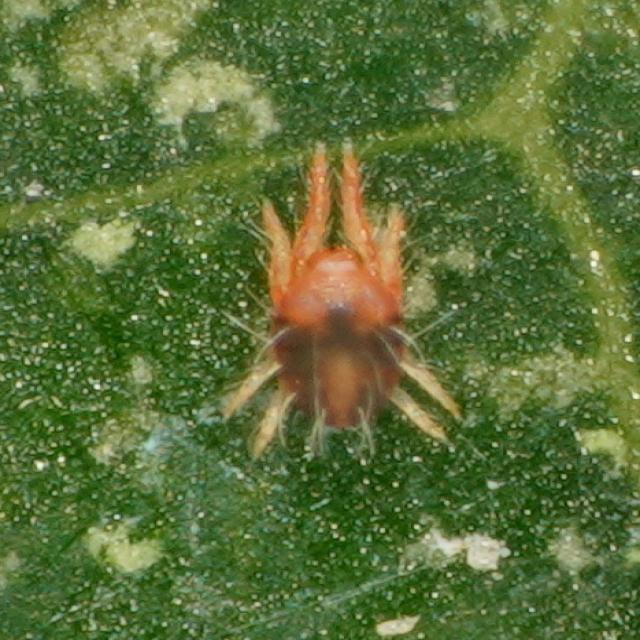OligonychusCoffeae: (155, 124, 513, 495)
